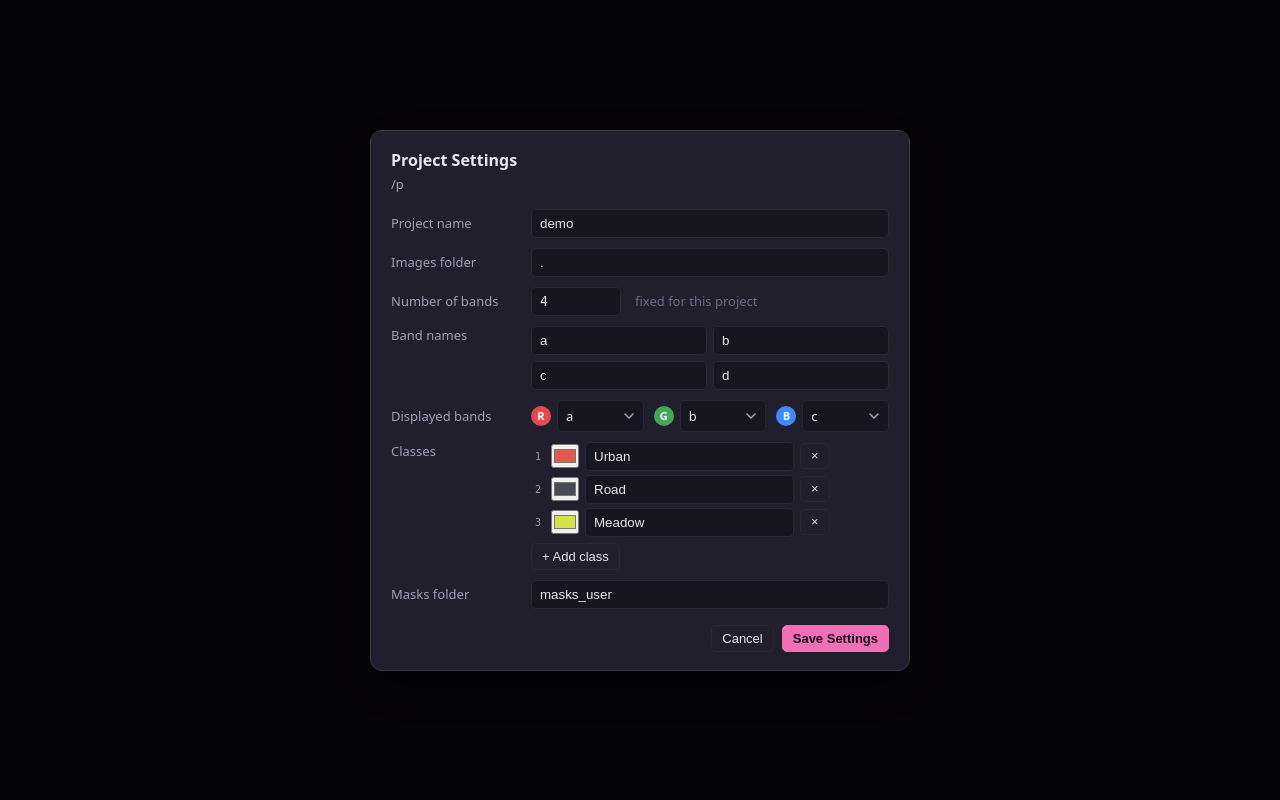
Test: the class list › will not let the last class be removed
The width and height of the screenshot is (1280, 800).
Click the 1st button with class "class-row-remove" at (815, 456), box top-left (800, 443), bottom-right (830, 469)
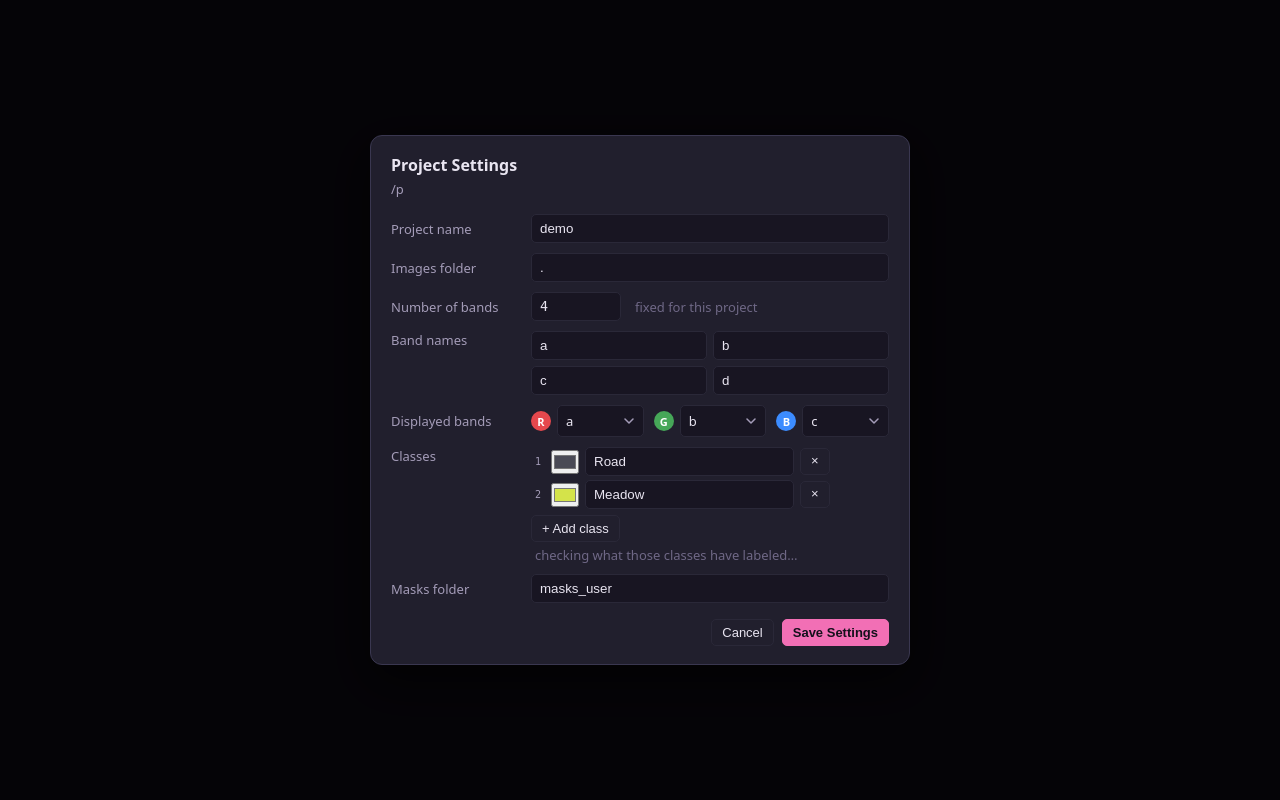
Click the 1st button with class "class-row-remove" at (815, 461), box top-left (800, 448), bottom-right (830, 475)
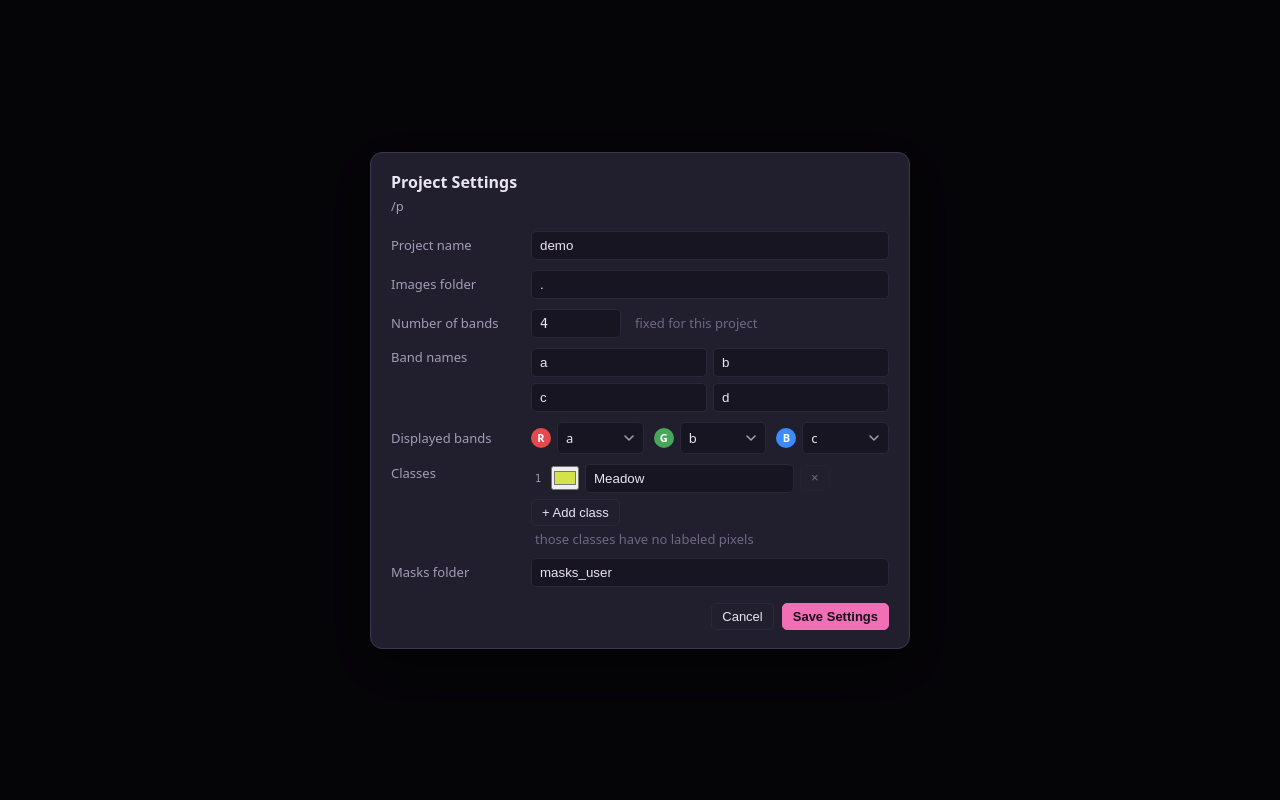
Expected: the button with class "class-row-remove" is disabled, top-left (800, 465), bottom-right (830, 491)
Expected: the number of elements with class "class-row" is 1, top-left (531, 464), bottom-right (830, 492)
